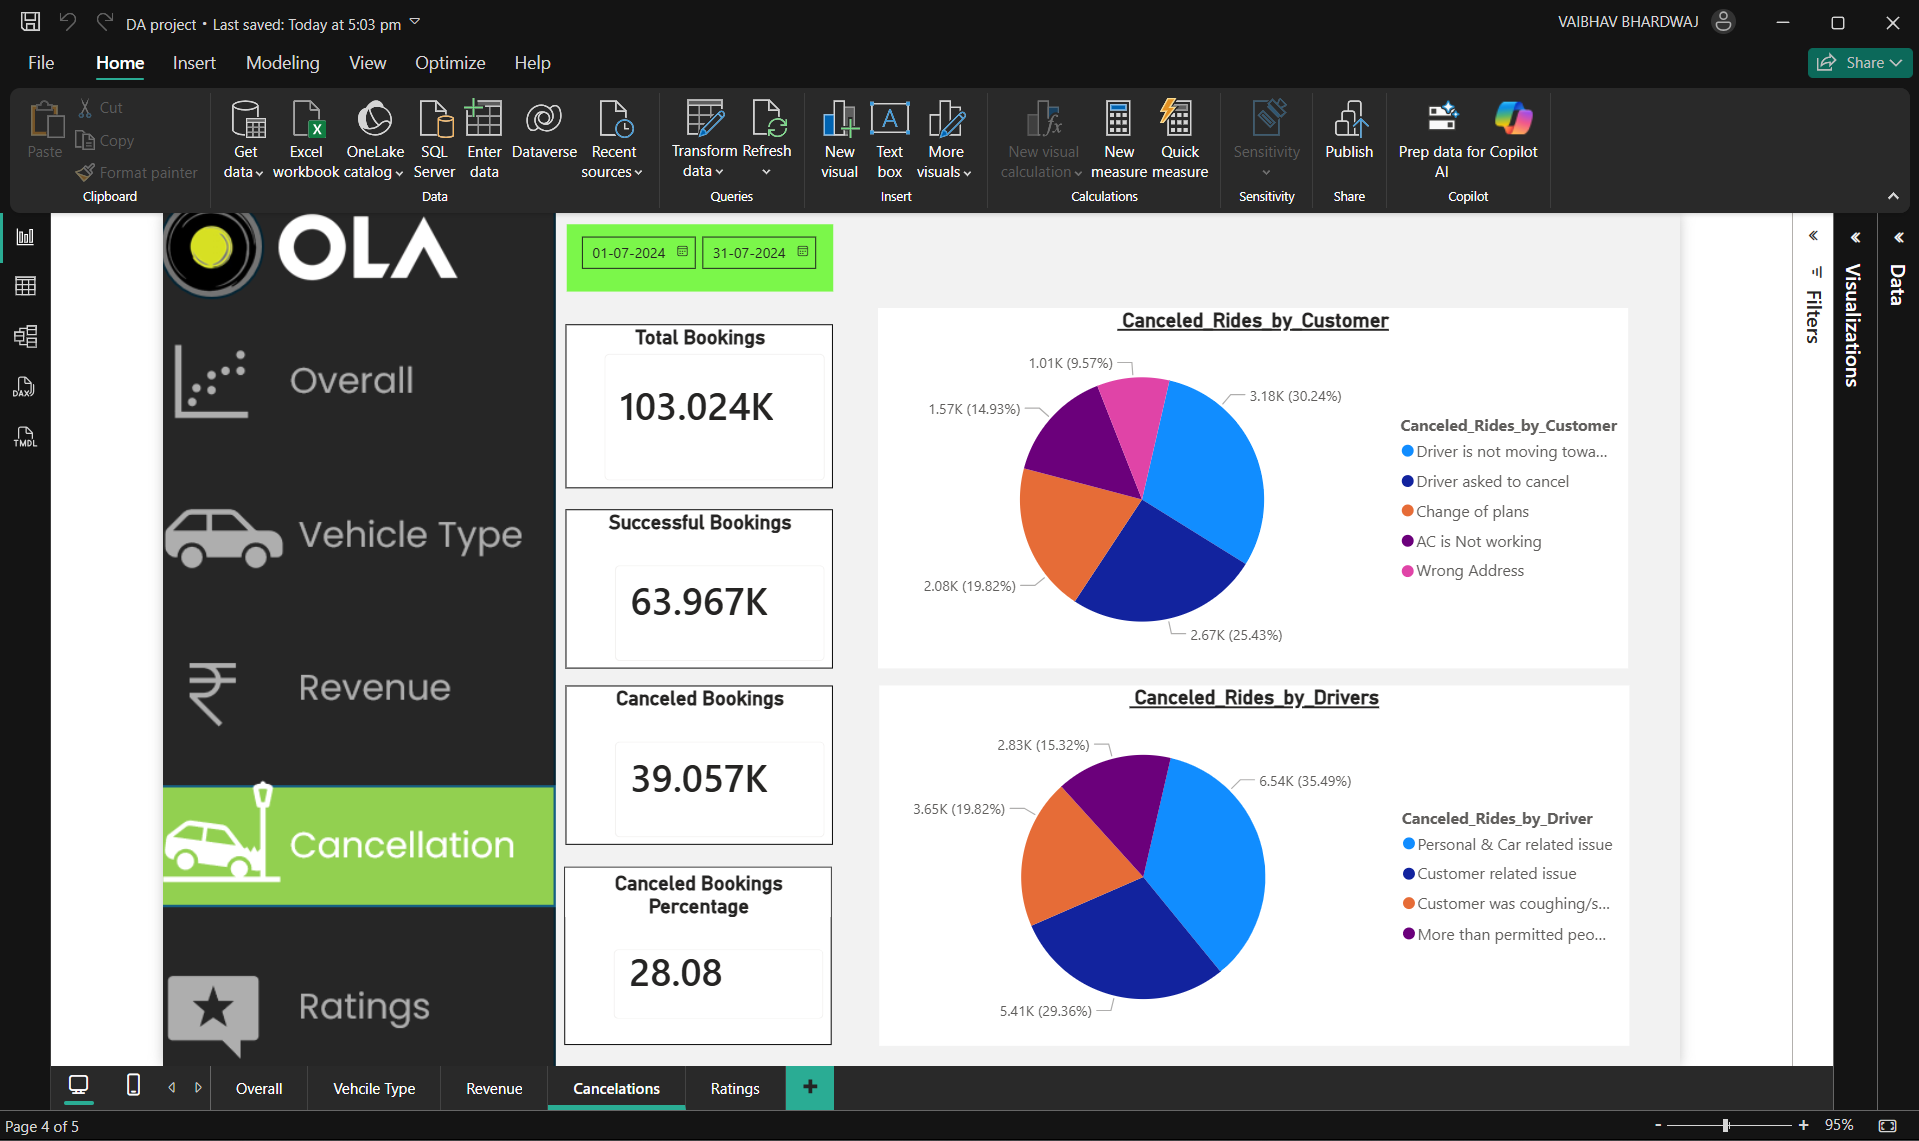

The dashboard page shown, as its layout file describes it:
{"tool":"powerbi","page":{"name":"Cancelations","canvas":[1280,720],"ordinal":3},"visuals":[{"type":"actionButton","box":[0,218.3,328.3,128.3],"z":0},{"type":"actionButton","box":[0,340,328.3,118.3],"z":1000},{"type":"actionButton","box":[0,458.3,328.3,140],"z":2000},{"type":"actionButton","box":[0,598.3,328.3,121.7],"z":3000},{"type":"actionButton","box":[0,83.3,328.3,143.3],"z":4000},{"type":"slicer","fields":{"Values":["July.Date"]},"box":[340.7,9.3,224.4,57],"z":5000},{"type":"cardVisual","title":"Total Bookings","fields":{"Data":["CountNonNull(July.Booking_Status)"]},"box":[340,94.3,225.7,138.6],"z":6000},{"type":"cardVisual","title":"Successful Bookings","fields":{"Data":["CountNonNull(July.Booking_Status)"]},"box":[340,250,225.7,134.3],"z":7000},{"type":"cardVisual","title":"Canceled Bookings","fields":{"Data":["CountNonNull(July.Booking_Status)"]},"box":[340,398.6,225.7,134.3],"z":8000},{"type":"cardVisual","title":"Canceled Bookings Percentage","fields":{"Data":["July.Canceled_Percentage"]},"box":[338.6,551.4,225.7,150],"z":9000},{"type":"pieChart","title":" Canceled_Rides_by_Customer","fields":{"Category":["July.Canceled_Rides_by_Customer"],"Y":["CountNonNull(July.Canceled_Rides_by_Customer)"]},"box":[602.9,80,632.9,304.3],"z":10000},{"type":"pieChart","title":" Canceled_Rides_by_Drivers","fields":{"Category":["July.Canceled_Rides_by_Driver"],"Y":["CountNonNull(July.Canceled_Rides_by_Driver)"]},"box":[604.3,398.6,632.9,304.3],"z":11000}]}

Visuals, with their boxes on the page's 1280x720 design canvas (x1, y1, x2, y2). These are canvas units, not pixel positions in the 1919x1141 screenshot, which may show the page scaled, cropped or inside an application window:
actionButton: box=[0, 218, 328, 347]
actionButton: box=[0, 340, 328, 458]
actionButton: box=[0, 458, 328, 598]
actionButton: box=[0, 598, 328, 720]
actionButton: box=[0, 83, 328, 227]
slicer - July.Date: box=[341, 9, 565, 66]
"Total Bookings" cardVisual: box=[340, 94, 566, 233]
"Successful Bookings" cardVisual: box=[340, 250, 566, 384]
"Canceled Bookings" cardVisual: box=[340, 399, 566, 533]
"Canceled Bookings Percentage" cardVisual: box=[339, 551, 564, 701]
" Canceled_Rides_by_Customer" pieChart: box=[603, 80, 1236, 384]
" Canceled_Rides_by_Drivers" pieChart: box=[604, 399, 1237, 703]
